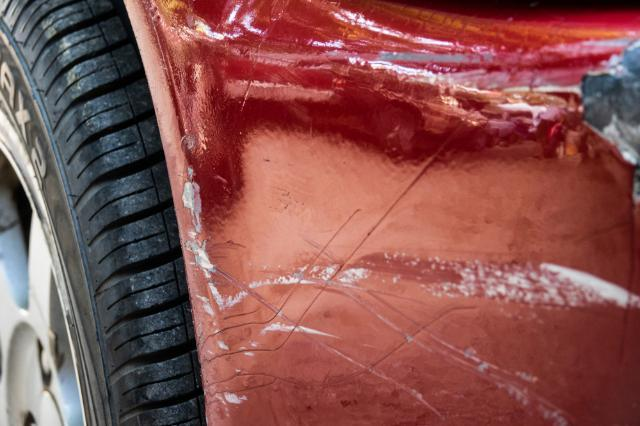scratch: (175, 167, 640, 426), (576, 34, 640, 220)
